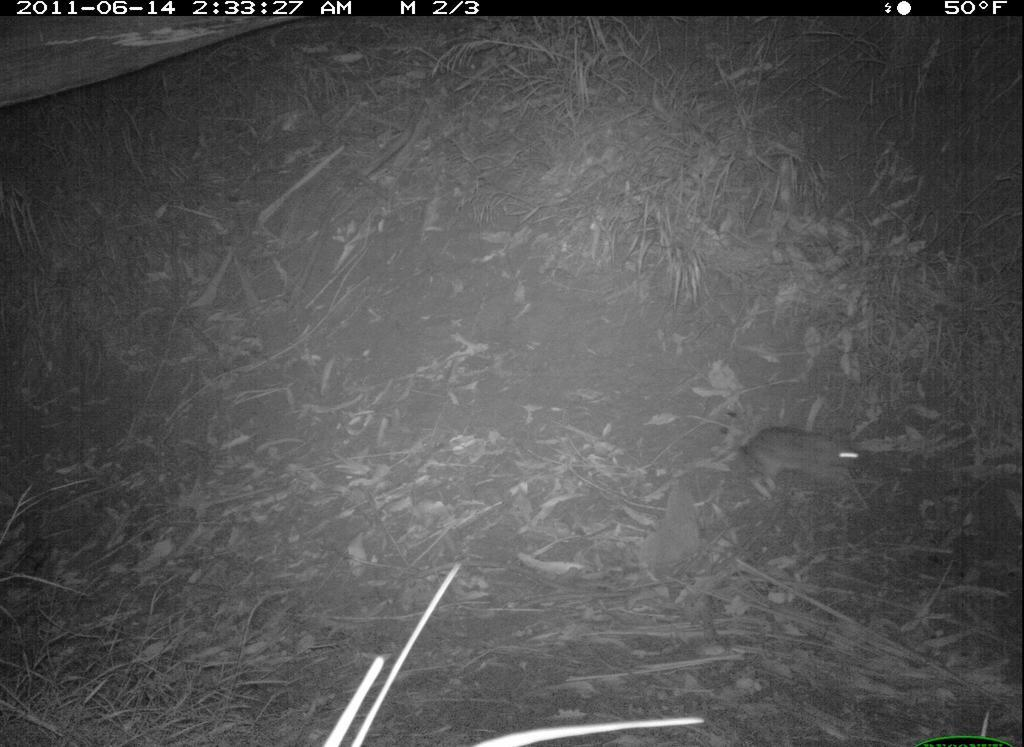rabbit: (728, 413, 878, 507)
